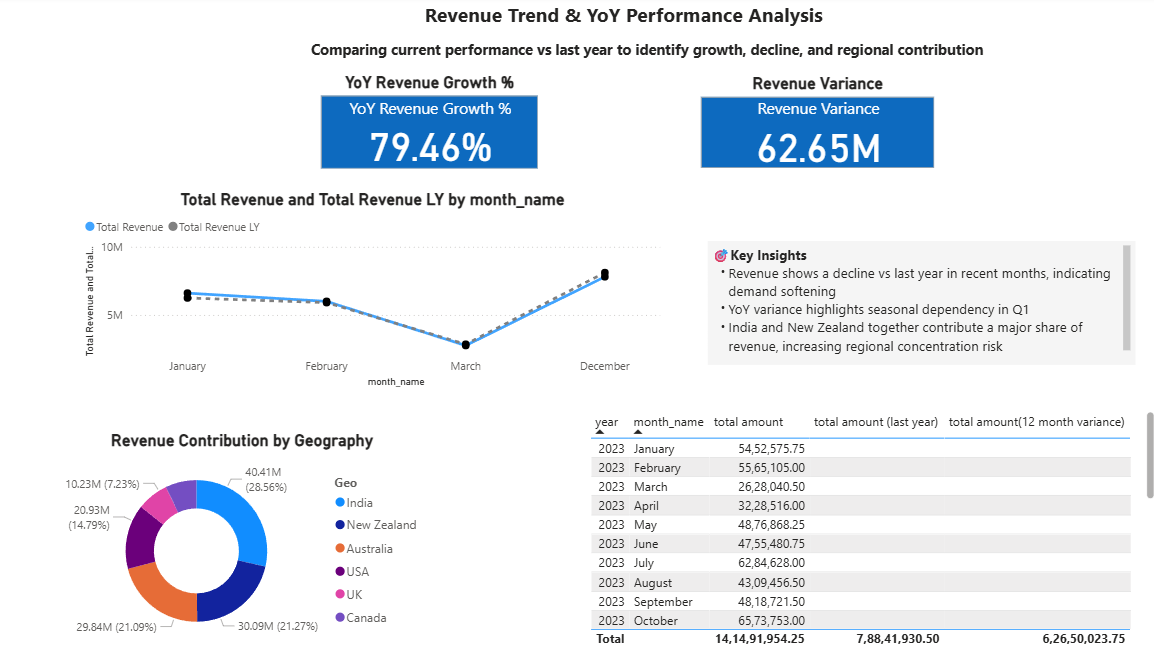

The dashboard page shown, as its layout file describes it:
{"tool":"powerbi","page":{"name":"Page 6","canvas":[1280,720],"ordinal":5},"visuals":[{"type":"lineChart","fields":{"Category":["calendar.year","calendar.month_name"],"Y":["shipments.total amount","shipments.total amount (last year)"]},"box":[19.4,0,561.1,333.3],"z":0},{"type":"tableEx","fields":{"Values":["calendar.year","calendar.month_name","shipments.total amount","shipments.total amount (last year)","shipments.total amount(12 month variance)"]},"box":[618.1,0,590.3,665.3],"z":1000},{"type":"donutChart","fields":{"Category":["locations.Geo"],"Y":["shipments.total amount"]},"box":[19.4,333.3,561.1,286.1],"z":2000}]}

Visuals, with their boxes in screenshot pixels (x1, y1, x2, y2), scaled from the page's 1280x720 canvas onto the 1154x650 screenshot:
lineChart - calendar.year x calendar.month_name: box=[17, 0, 523, 301]
tableEx - calendar.year x calendar.month_name: box=[557, 0, 1089, 601]
donutChart - locations.Geo x shipments.total amount: box=[17, 301, 523, 559]
